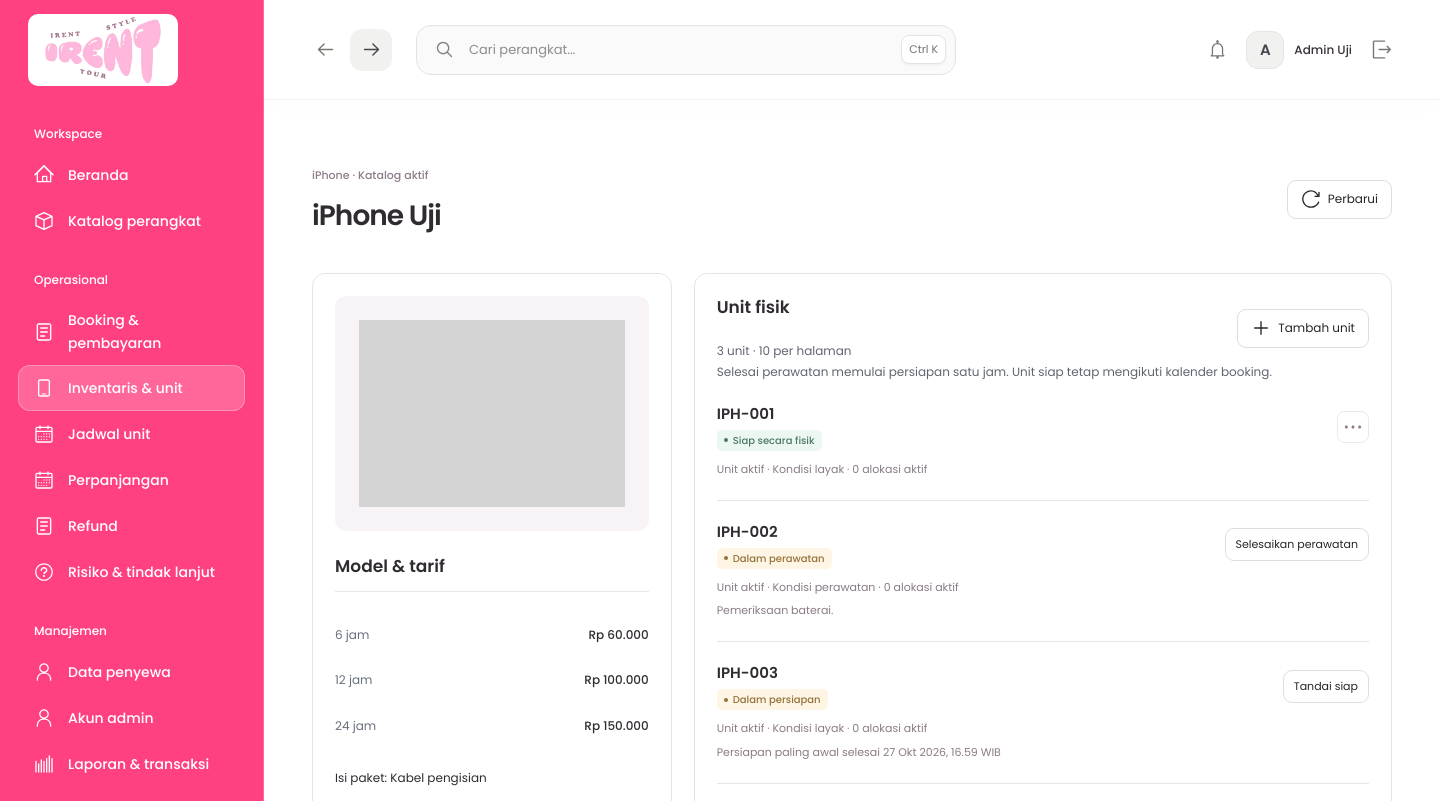
Scenario: finishes preparation through the API and refreshes physical readiness
Click the button with aria-label "Selesaikan persiapan IPH-003" at (1326, 686), box [1283, 670, 1369, 702]
(page scrolled)
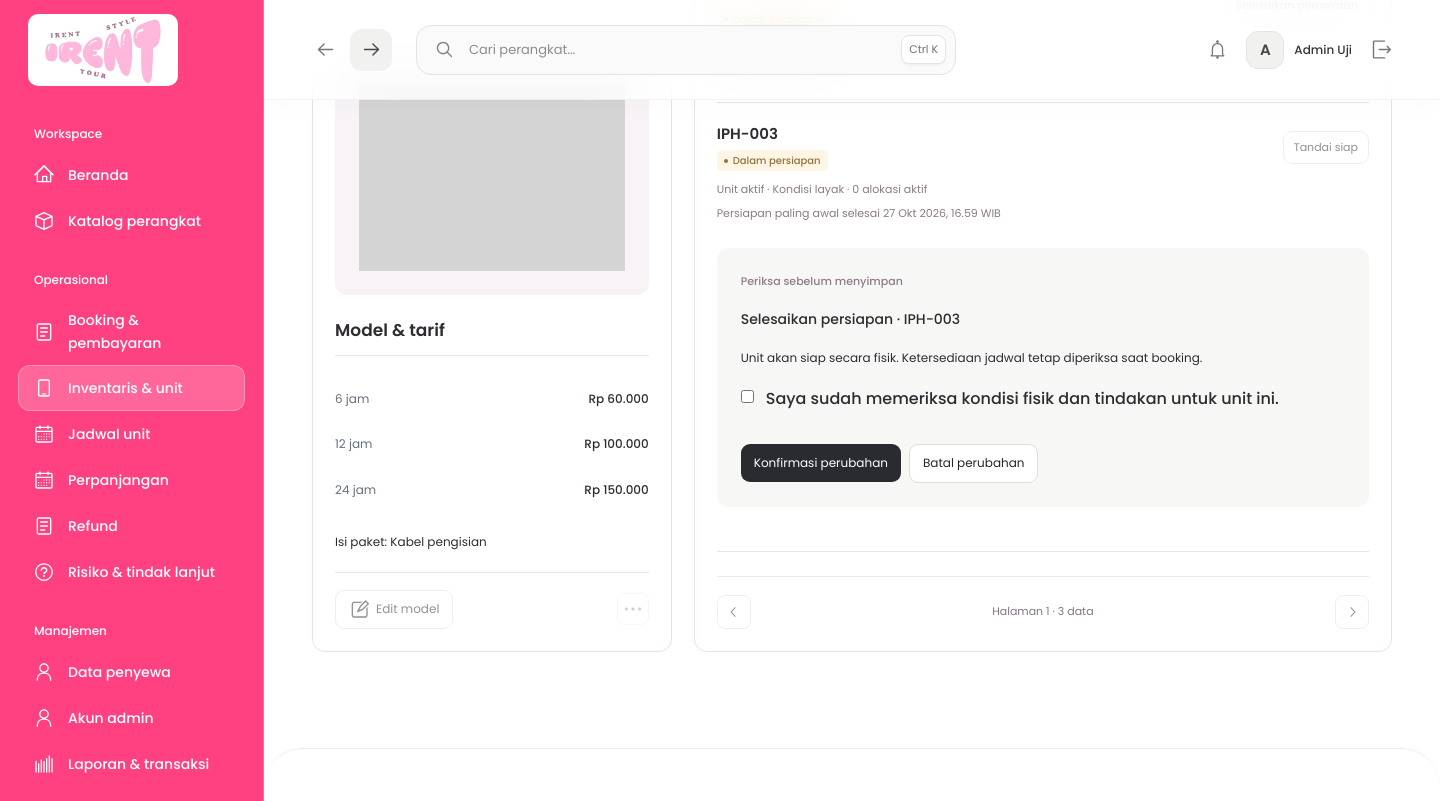
Click the button "Konfirmasi perubahan" at (821, 463), box [741, 444, 901, 482]
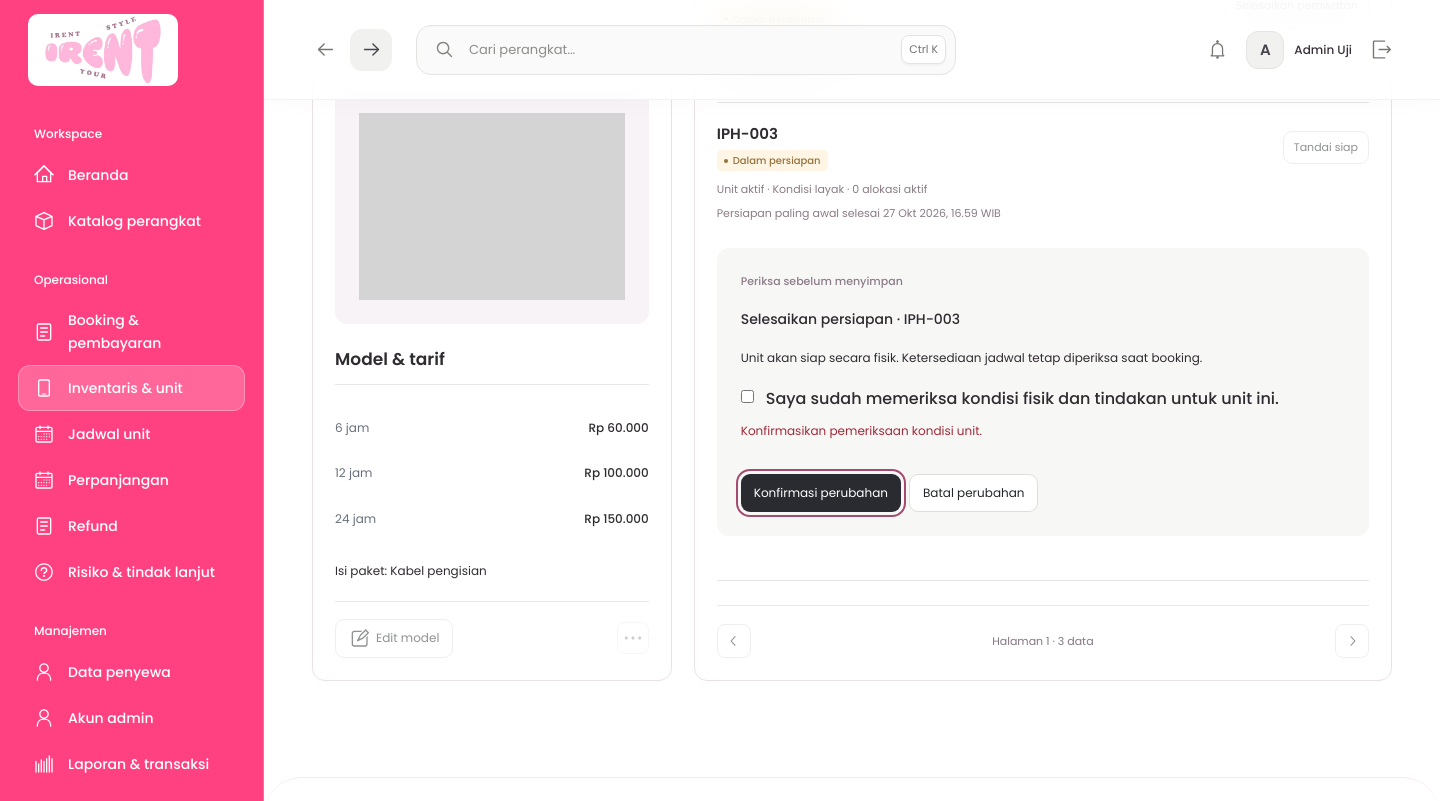
Result: the message shows "pemeriksaan" at [741, 422, 982, 439]
Click the checkbox labelled "sudah memeriksa kondisi fisik" at (747, 396), box [741, 390, 754, 403]
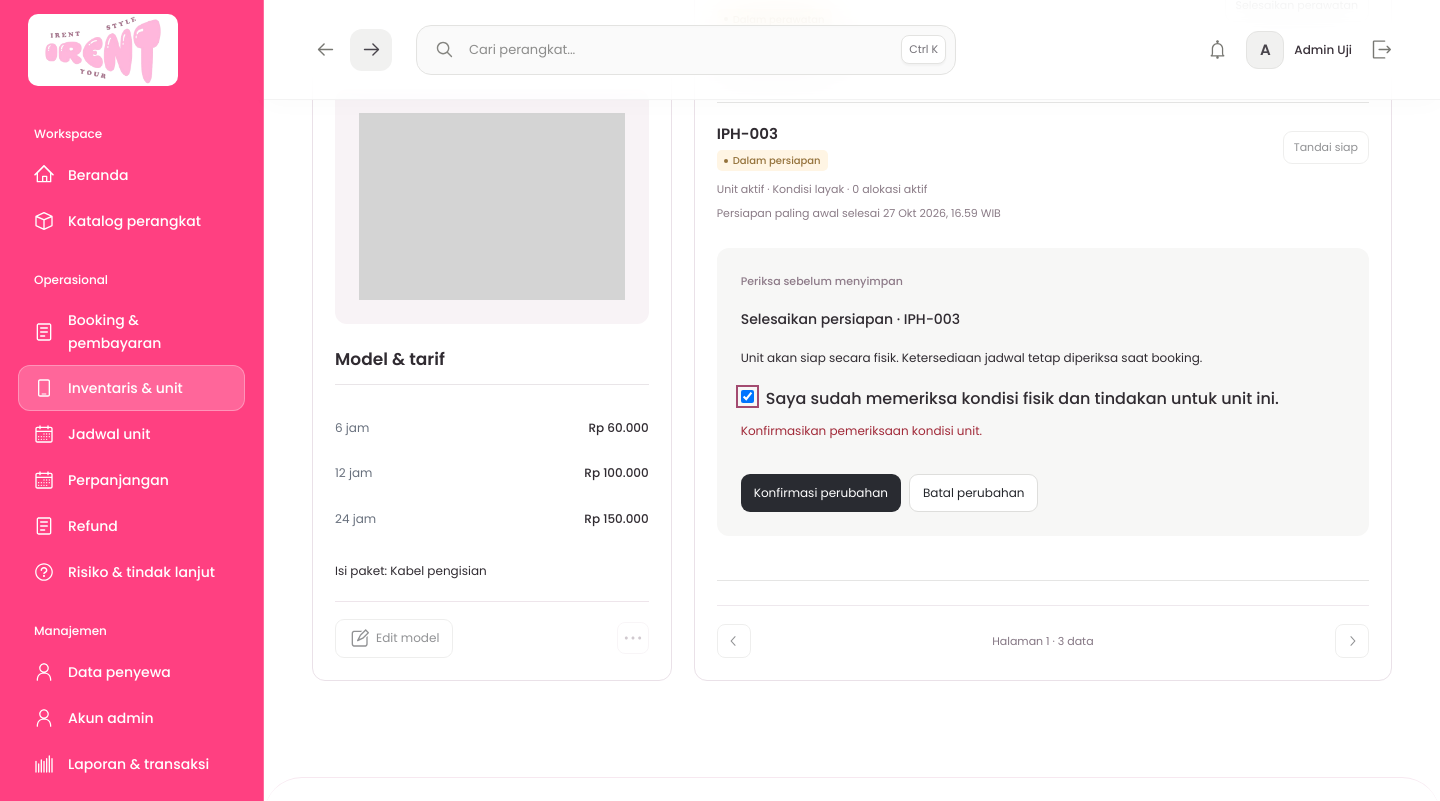
Click the button "Konfirmasi perubahan" at (821, 493), box [741, 474, 901, 512]
(page scrolled)
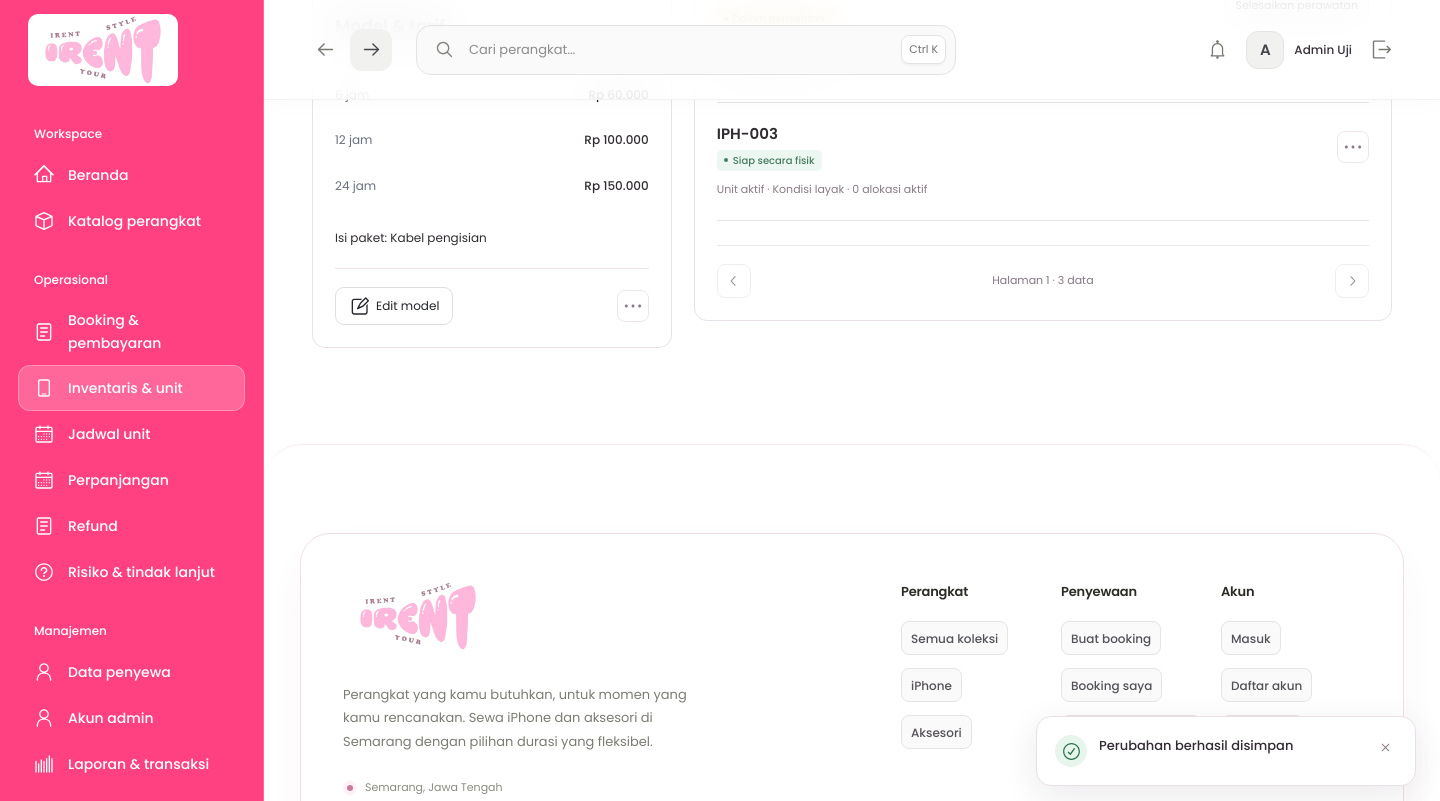
Click the heading named "Tindakan unit IPH-003" at (1353, 147), box [1337, 131, 1369, 163]
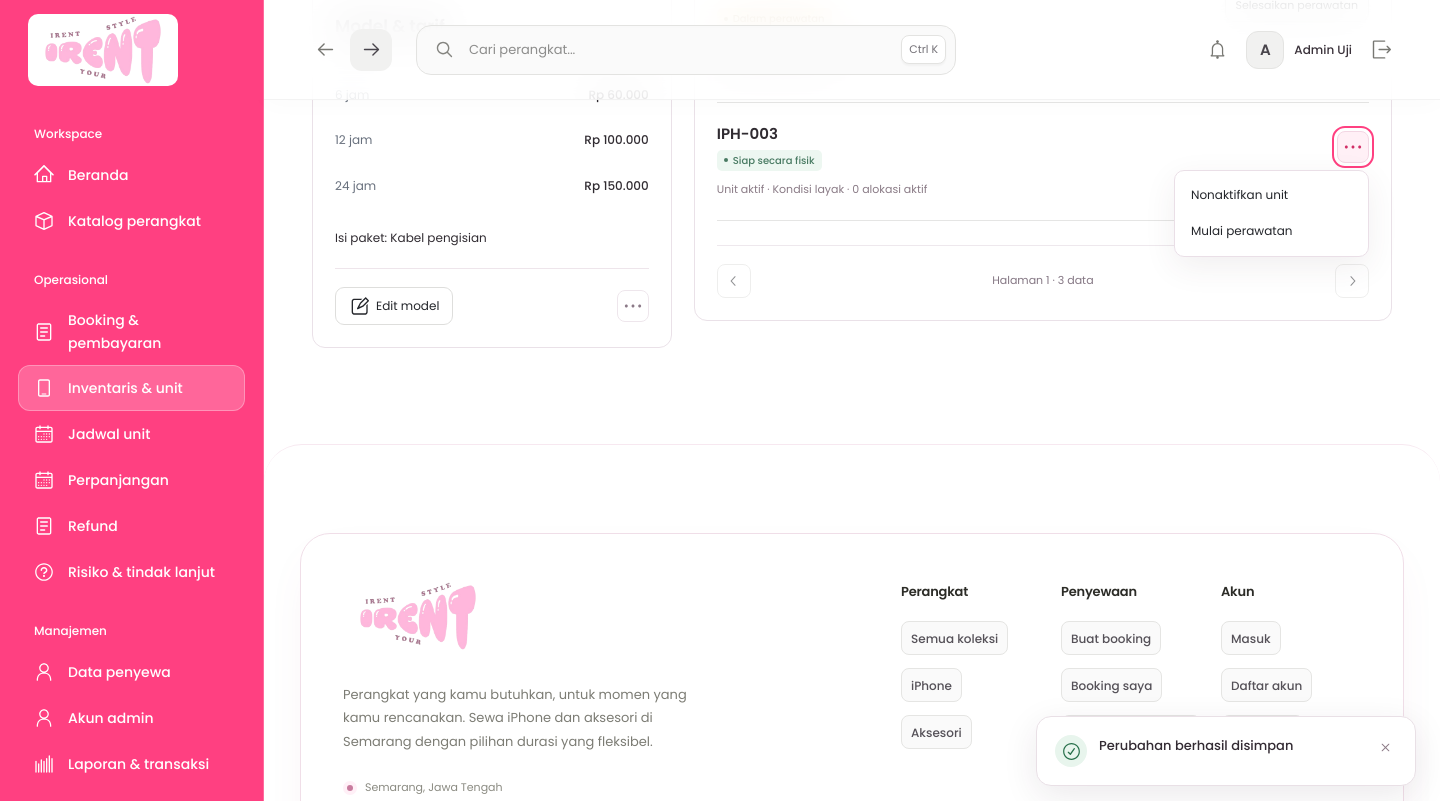
Result: the button with aria-label "Nonaktifkan IPH-003" is enabled at [1181, 177, 1362, 213]
